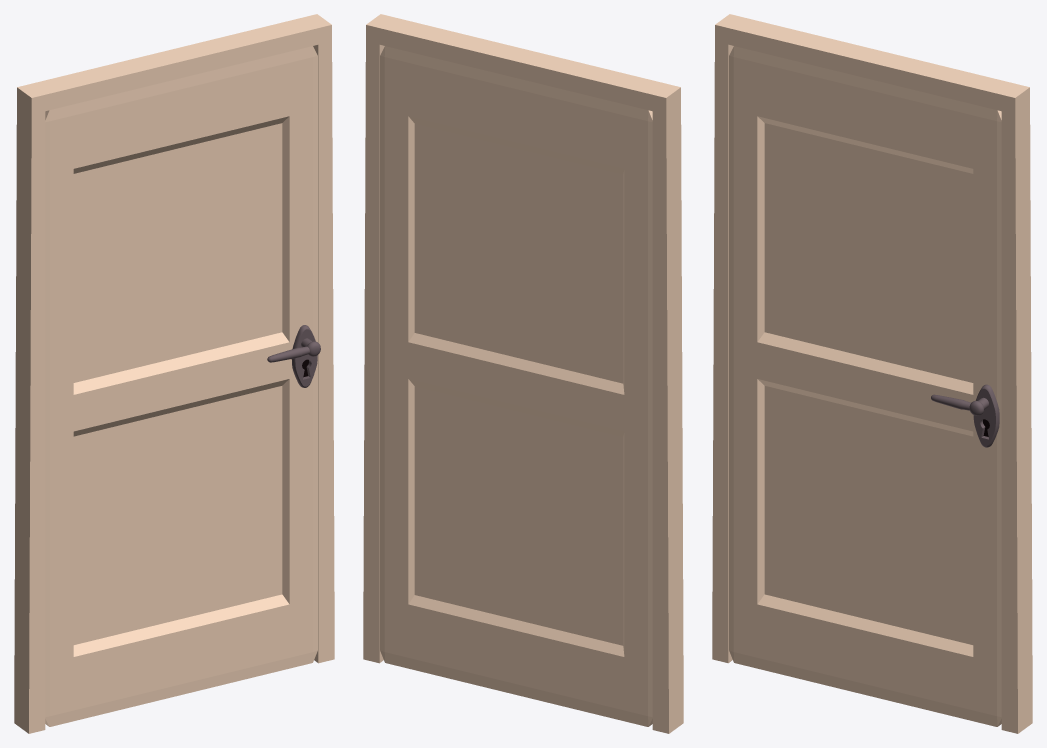
Rendered from doorstatic2.fbx.
3 renders of one model, left to right at view 1: azimuth 30°, elevation 25°; view 2: azimuth 150°, elevation 25°; view 3: azimuth 330°, elevation 25°, orthographic.
Parts seen in each view (by area): view 1: knob.002; view 2: knob.002; view 3: knob.002.
Boxes of the visible parts, x1=… form: knob.002: x1=14, y1=14, x2=334, y2=733; knob.002: x1=363, y1=14, x2=683, y2=733; knob.002: x1=712, y1=14, x2=1032, y2=733.
Bounding box in the file's own units: 310 × 616 × 48.05.
